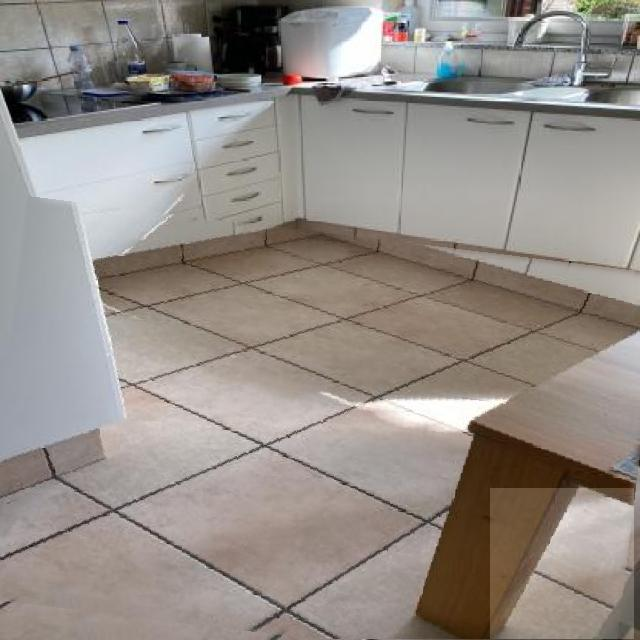floor: (0, 232, 638, 640), (491, 488, 634, 640)
